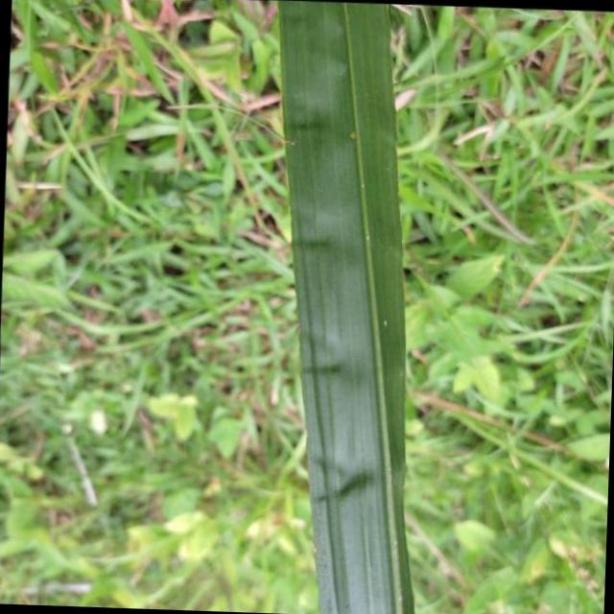Boron: (280, 0, 422, 614)
